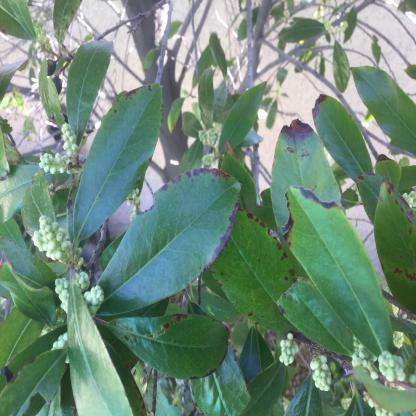Cherry leaf: (92, 164, 256, 326), (276, 172, 396, 380), (68, 76, 175, 254), (102, 310, 242, 380), (58, 34, 130, 166), (344, 53, 416, 169), (308, 88, 380, 198), (0, 260, 62, 338), (17, 167, 65, 251)
